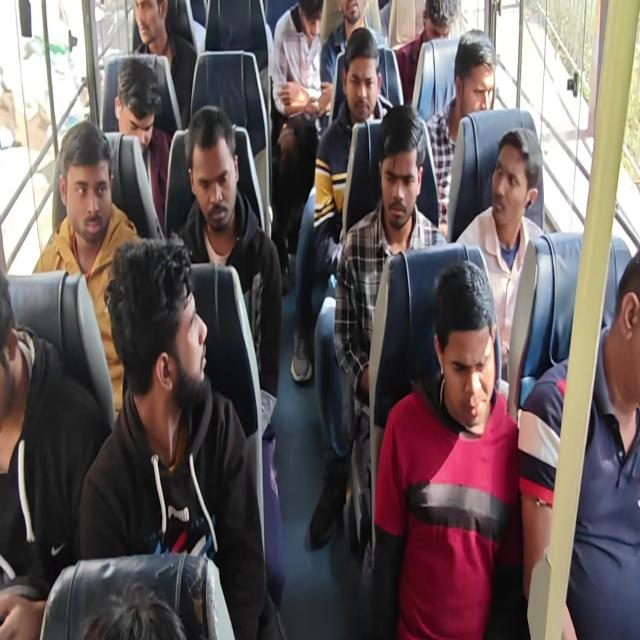person: (124, 256, 212, 404), (438, 282, 492, 428), (186, 119, 242, 237), (58, 127, 116, 238), (487, 130, 534, 234), (112, 63, 162, 157), (0, 276, 32, 421), (451, 34, 496, 122), (377, 130, 417, 226), (612, 262, 640, 399), (339, 44, 378, 124), (119, 0, 178, 47), (421, 0, 459, 60), (302, 0, 332, 53), (336, 0, 371, 31)
